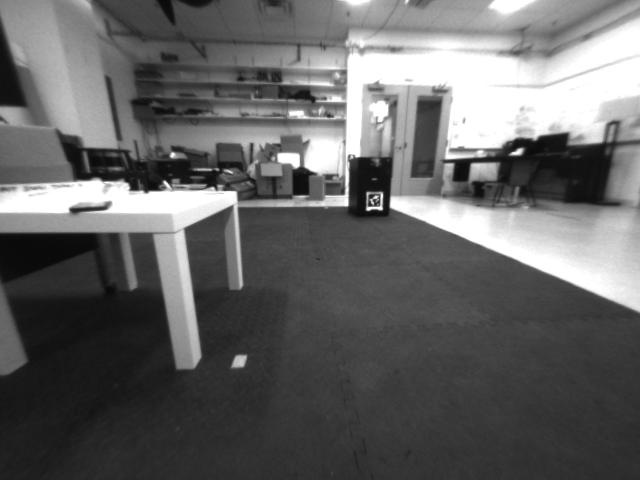door_handle: (392, 143, 403, 152)
drawer: (365, 156, 386, 170)
